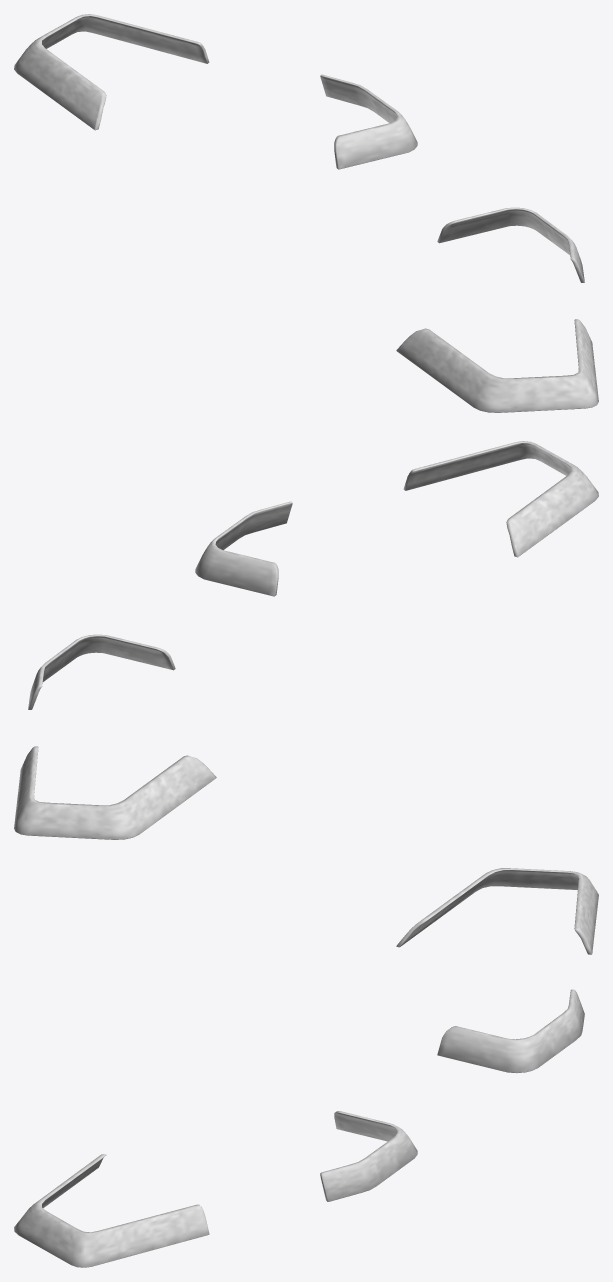
File: pref_sm_beach_techobstacle03_glass_lv3.fbx
3 views of the same model, one above another, from view 1: azimuth 30°, elevation 25°; view 2: azimuth 150°, elevation 25°; view 3: azimuth 330°, elevation 25° (orthographic).
Visible parts, largest first — view 1: pref_sm_beach_techobstacle03_glass_lv3; view 2: pref_sm_beach_techobstacle03_glass_lv3; view 3: pref_sm_beach_techobstacle03_glass_lv3.
Part boxes in pixels (left/top/right/bottom): pref_sm_beach_techobstacle03_glass_lv3: left=14, top=14, right=598, bottom=412; pref_sm_beach_techobstacle03_glass_lv3: left=14, top=441, right=598, bottom=839; pref_sm_beach_techobstacle03_glass_lv3: left=14, top=868, right=598, bottom=1267.
Size of the model in its own units: 9.8 by 1 by 37.78.
